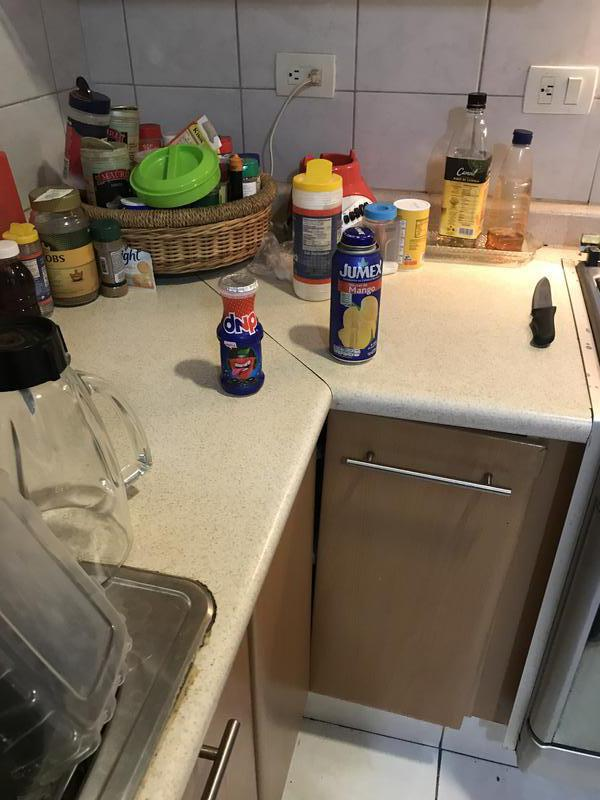danup: (214, 273, 269, 397)
jugo_jumex: (330, 225, 382, 367)
